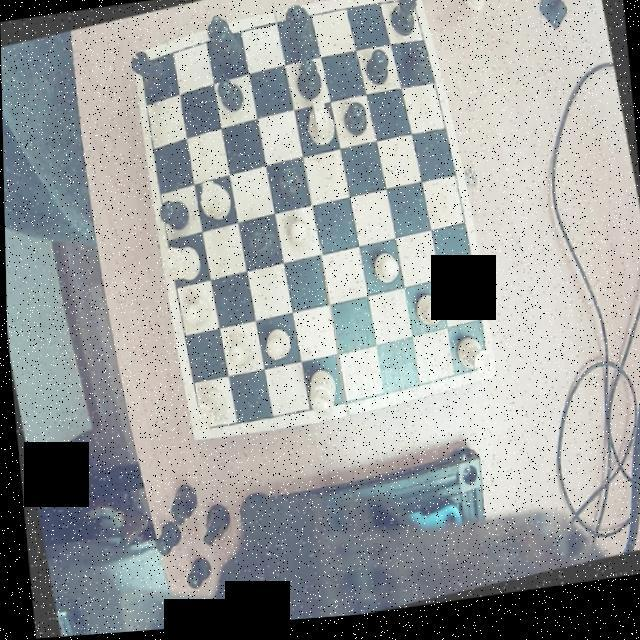chess-table-corners: (468, 357, 494, 386), (132, 53, 152, 84), (190, 418, 214, 443), (397, 0, 418, 18)
